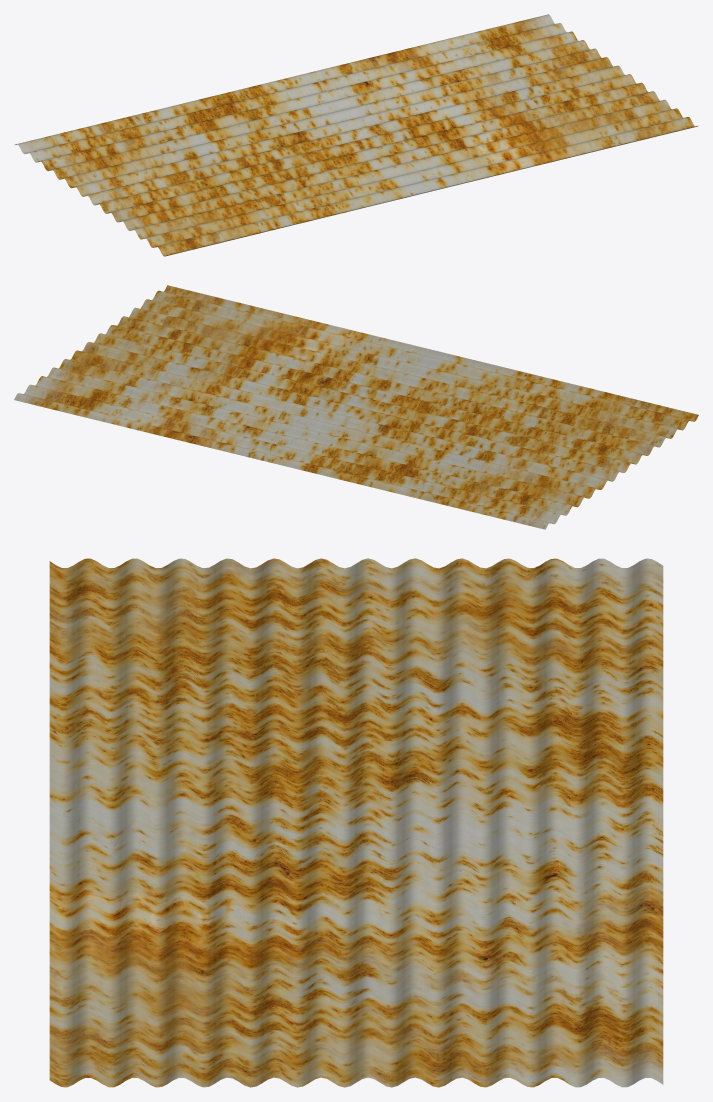
File: oluklu_sac_galvaniz_2x1m.gltf
3 views of the same model, one above another, from view 1: azimuth 30°, elevation 25°; view 2: azimuth 150°, elevation 25°; view 3: azimuth 270°, elevation 25° (orthographic). The views are drawn at different scales.
Visible parts, largest first — view 1: oluklu_sac_galvaniz_2x1m; view 2: oluklu_sac_galvaniz_2x1m; view 3: oluklu_sac_galvaniz_2x1m.
Part boxes in pixels (x1,y1,x2,y2): oluklu_sac_galvaniz_2x1m: [15, 14, 697, 256]; oluklu_sac_galvaniz_2x1m: [14, 285, 698, 529]; oluklu_sac_galvaniz_2x1m: [49, 558, 663, 1087].
Size of what is drawn, in the model's own units: 2 by 0.0188 by 1.
1 material, 1 textured.
